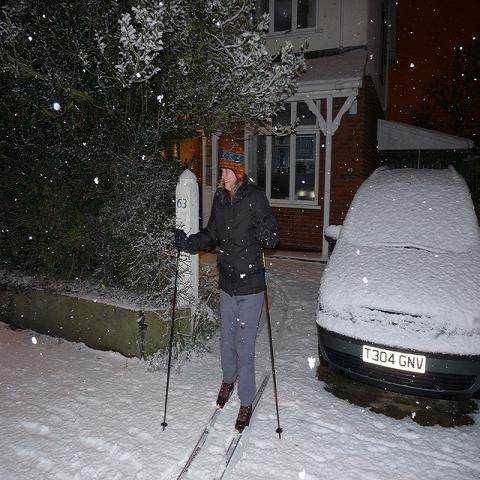car: (313, 170, 479, 396)
